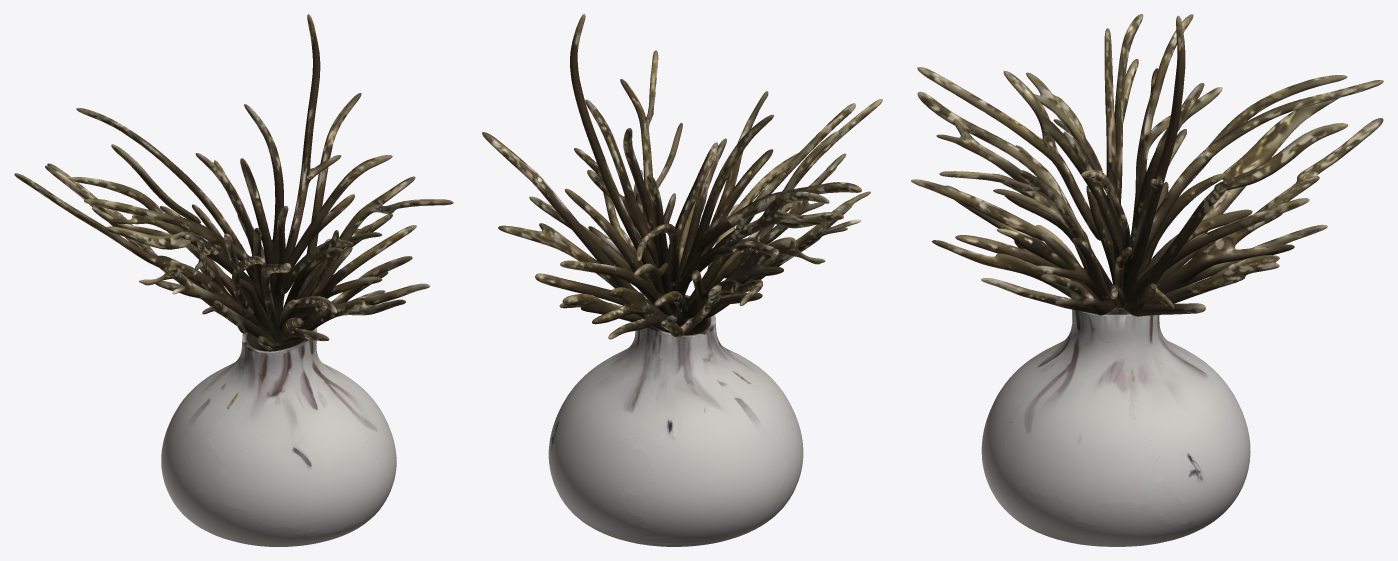
File: vase_branches.glb
3 renders of one model, left to right at view 1: azimuth 30°, elevation 25°; view 2: azimuth 150°, elevation 25°; view 3: azimuth 270°, elevation 25°, orthographic. The views are drawn at different scales.
Visible parts, largest first — view 1: node_0; view 2: node_0; view 3: node_0.
Boxes of the visible parts, <box> form: node_0: <box>14,14,453,546</box>; node_0: <box>482,14,882,546</box>; node_0: <box>911,14,1383,546</box>.
Bounding box in the file's own units: 0.7911 × 1.09 × 0.8886.
1 material, 1 textured.
